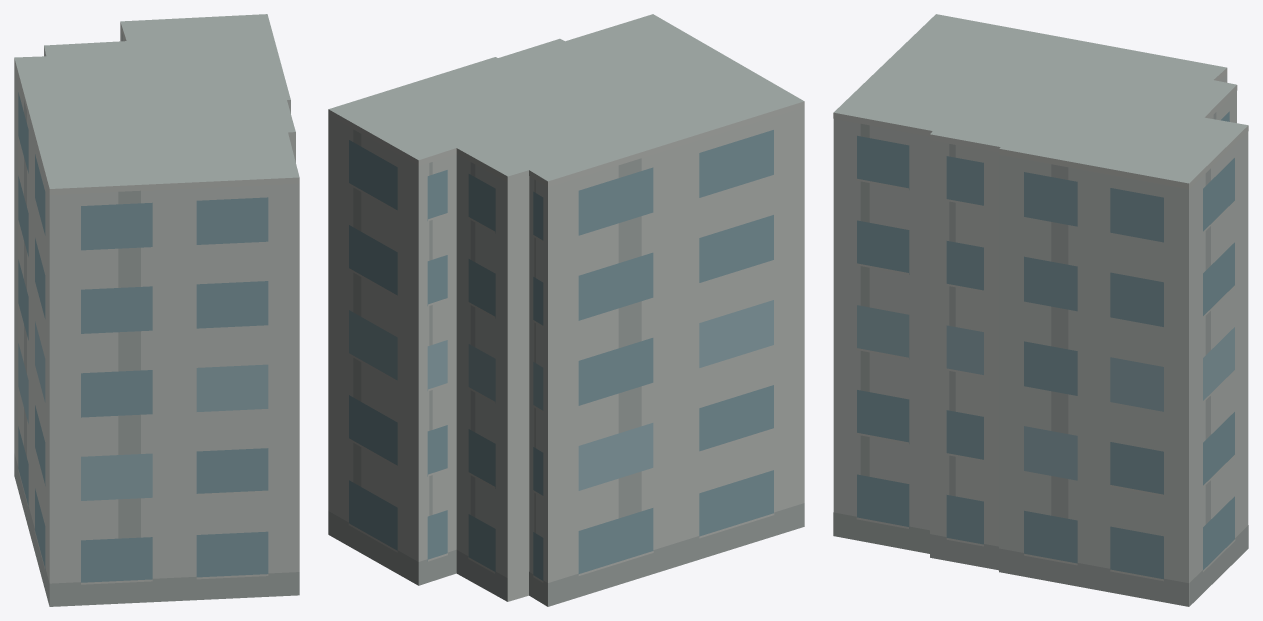
Rendered from survey-upis-32884806.glb.
The picture shows the model from 3 angles, left to right: view 1: azimuth 30°, elevation 25°; view 2: azimuth 150°, elevation 25°; view 3: azimuth 270°, elevation 25°; orthographic projection.
Parts seen in each view (by area): view 1: survey-upis-32884806.tmp; view 2: survey-upis-32884806.tmp; view 3: survey-upis-32884806.tmp.
Part boxes in pixels (<box>): survey-upis-32884806.tmp: <box>14,14,299,606</box>; survey-upis-32884806.tmp: <box>328,14,804,606</box>; survey-upis-32884806.tmp: <box>833,14,1248,606</box>.
Bounding box in the file's own units: 14.77 × 17.2 × 15.29.
